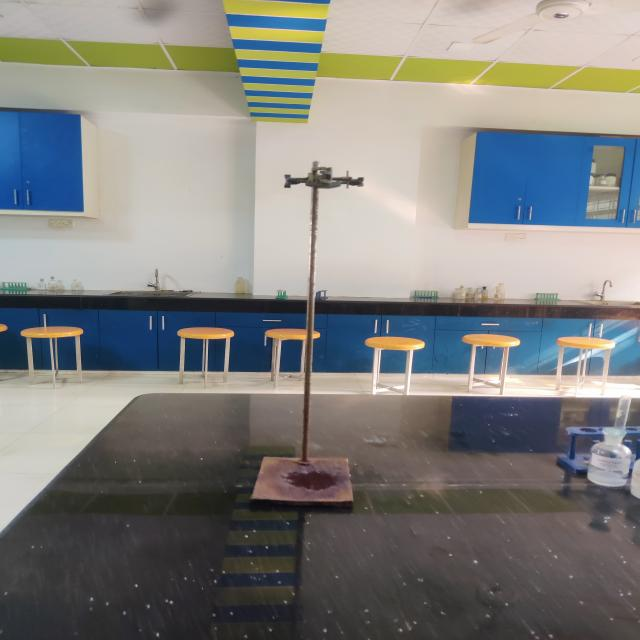Burette_Stands: (246, 151, 386, 522)
